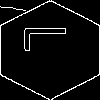L: (25, 25, 77, 53)
